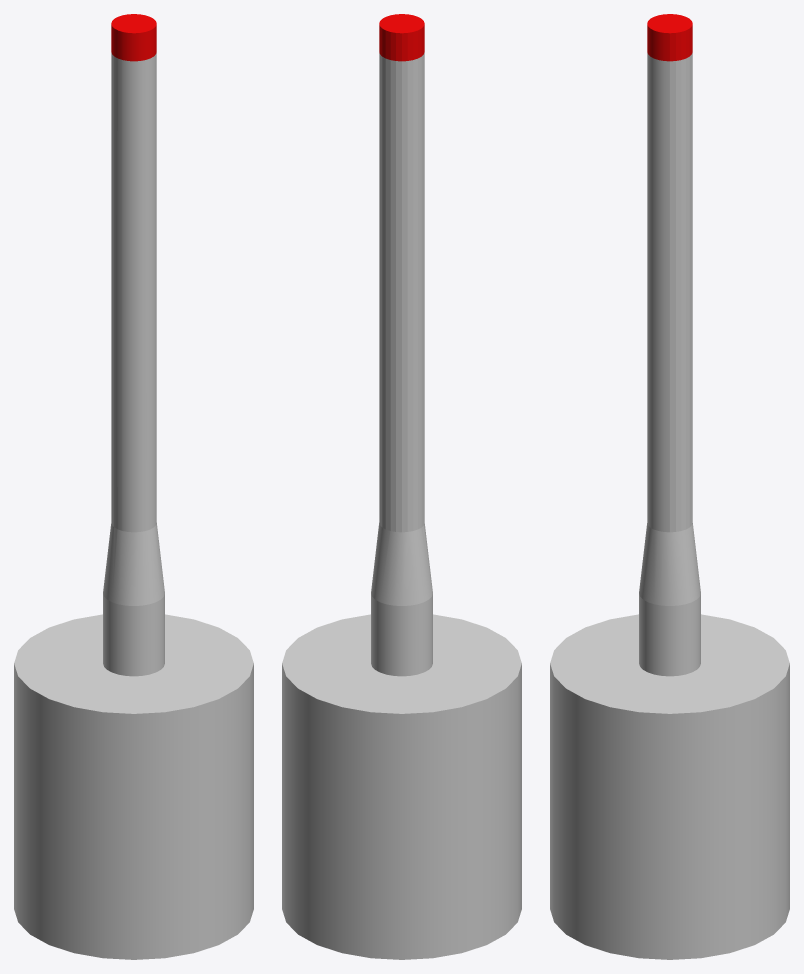
Rendered from ULTRASONIC SENSOR.fbx.
3 renders of one model, left to right at view 1: azimuth 30°, elevation 25°; view 2: azimuth 150°, elevation 25°; view 3: azimuth 270°, elevation 25°, orthographic.
Visible parts, largest first — view 1: Model; view 2: Model; view 3: Model.
Boxes of the visible parts, bbox=[...] form: Model: bbox=[14, 14, 253, 959]; Model: bbox=[282, 14, 521, 959]; Model: bbox=[550, 14, 789, 959].
Size of the model in its own units: 1.93 by 7.88 by 1.93.
